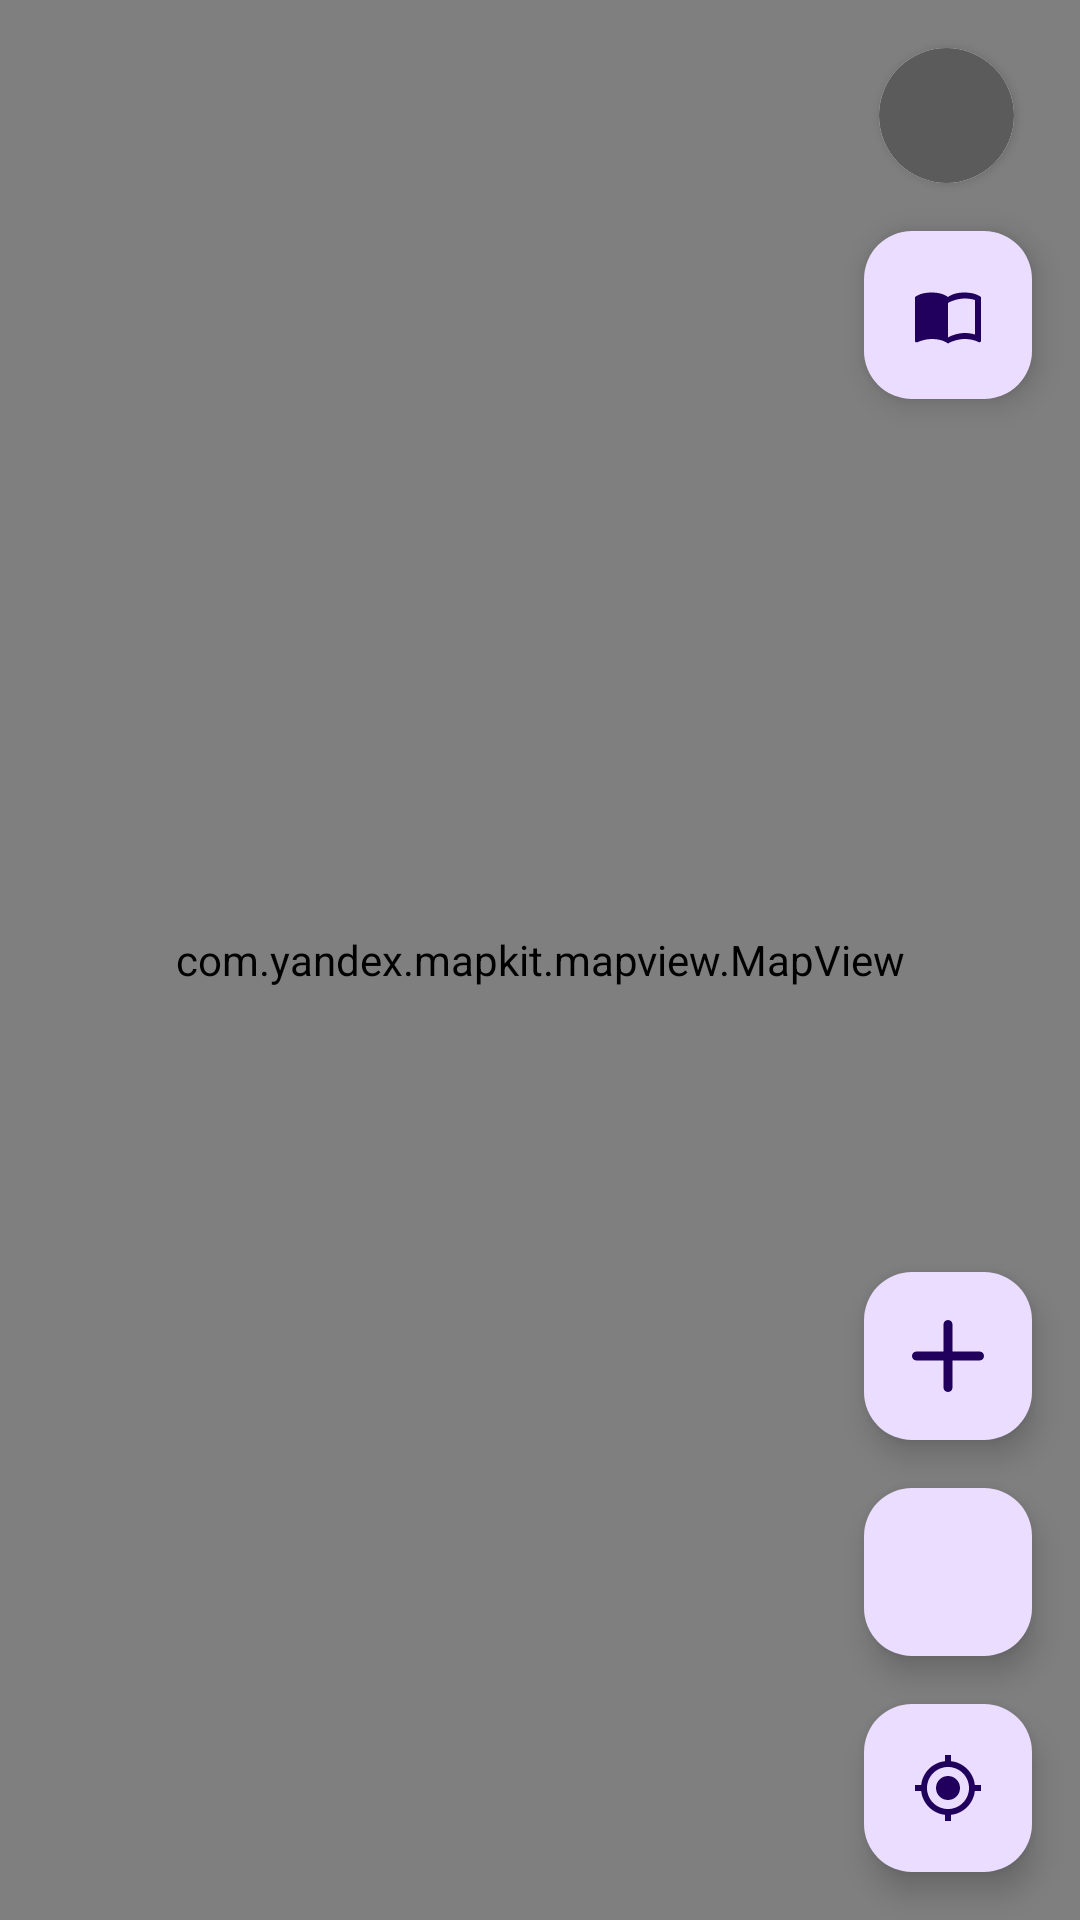

Screen size 1080*1920. Icon name, then its center in pixels as (x=x, y=y):
Location Button: (x=948, y=1788)
Plus Zoom Button: (x=948, y=1356)
